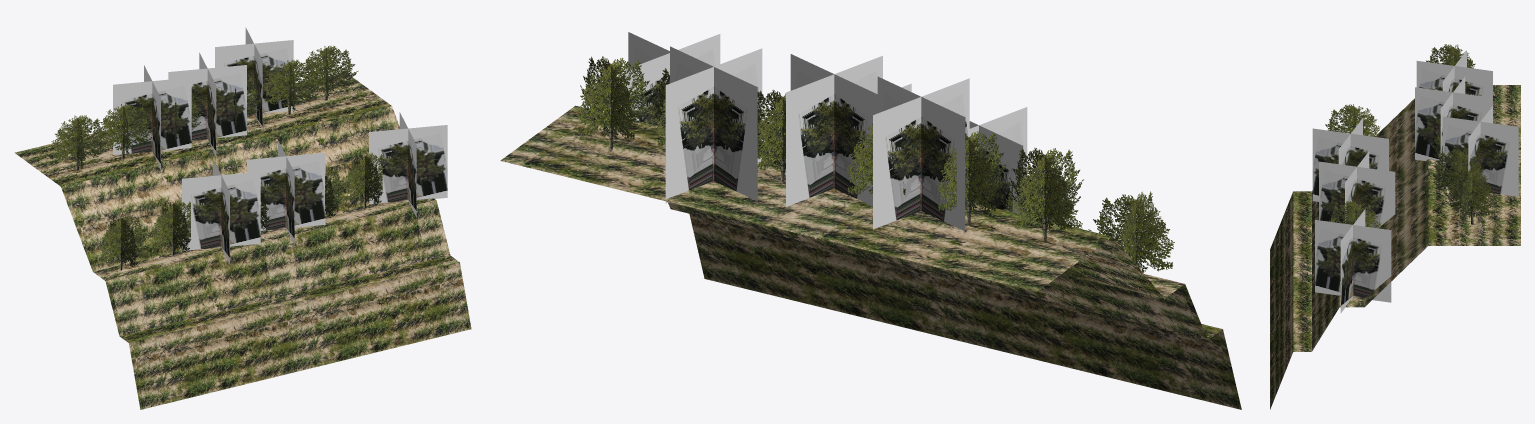
Rendered from SideHill.fbx.
The picture shows the model from 3 angles, left to right: view 1: azimuth 30°, elevation 25°; view 2: azimuth 150°, elevation 25°; view 3: azimuth 270°, elevation 25°; orthographic projection. The views are drawn at different scales.
Visible parts, largest first — view 1: Plane.008, Tree_2.002, Tree_2__2_.002, Tree_2__1_.002, Tree_2__3_.002, Tree_2__4_.002, Tree_2__5_.002, Tree_1__1_.001, Tree_1__6_.002, Tree_1__2_.001, Tree_1__7_.001, Tree_1__11_.001 (+4 smaller); view 2: Plane.008, Tree_2__5_.002, Tree_2__3_.002, Tree_2__4_.002, Tree_1__7_.001, Tree_1__1_.001, Tree_1__11_.001, Tree_1__2_.001, Tree_2__2_.002, Tree_2.002, Tree_1__5_.002, Tree_1__3_.001; view 3: Plane.008, Tree_2__2_.002, Tree_2__5_.002, Tree_2__1_.002, Tree_2__4_.002, Tree_2.002, Tree_2__3_.002, Tree_1__7_.001, Tree_1__6_.002, Tree_1__11_.001, Tree_1__14_.001, Tree_1__1_.001.
Part boxes in pixels (x1,y1,x2,y2): Plane.008: [14, 73, 471, 409]; Tree_2.002: [182, 159, 260, 264]; Tree_2__2_.002: [369, 112, 447, 217]; Tree_2__1_.002: [247, 140, 325, 244]; Tree_2__3_.002: [113, 65, 191, 170]; Tree_2__4_.002: [168, 52, 246, 157]; Tree_2__5_.002: [215, 27, 293, 129]; Tree_1__1_.001: [51, 115, 109, 170]; Tree_1__6_.002: [263, 59, 321, 114]; Tree_1__2_.001: [98, 103, 154, 158]; Tree_1__7_.001: [299, 46, 358, 100]; Tree_1__11_.001: [99, 215, 147, 270]; Plane.008: [500, 105, 1241, 409]; Tree_2__5_.002: [665, 46, 762, 203]; Tree_2__3_.002: [873, 76, 969, 230]; Tree_2__4_.002: [786, 54, 882, 206]; Tree_1__7_.001: [576, 56, 653, 150]; Tree_1__1_.001: [1009, 148, 1083, 240]; Tree_1__11_.001: [1088, 191, 1174, 272]; Tree_1__2_.001: [937, 130, 1007, 223]; Tree_2__2_.002: [623, 32, 720, 127]; Tree_2.002: [965, 107, 1027, 215]; Tree_1__5_.002: [757, 90, 785, 182]; Tree_1__3_.001: [846, 123, 906, 194]; Plane.008: [1270, 85, 1520, 409]; Tree_2__2_.002: [1315, 209, 1391, 313]; Tree_2__5_.002: [1442, 106, 1518, 199]; Tree_2__1_.002: [1319, 151, 1395, 227]; Tree_2__4_.002: [1415, 76, 1490, 176]; Tree_2.002: [1312, 118, 1388, 201]; Tree_2__3_.002: [1416, 50, 1492, 107]; Tree_1__7_.001: [1443, 169, 1496, 224]; Tree_1__6_.002: [1431, 149, 1486, 203]; Tree_1__11_.001: [1325, 104, 1380, 136]; Tree_1__14_.001: [1326, 200, 1381, 228]; Tree_1__1_.001: [1426, 44, 1475, 68].
Bounding box in the file's own units: 40.69 × 25.81 × 25.04.
3 materials, 3 textured.
